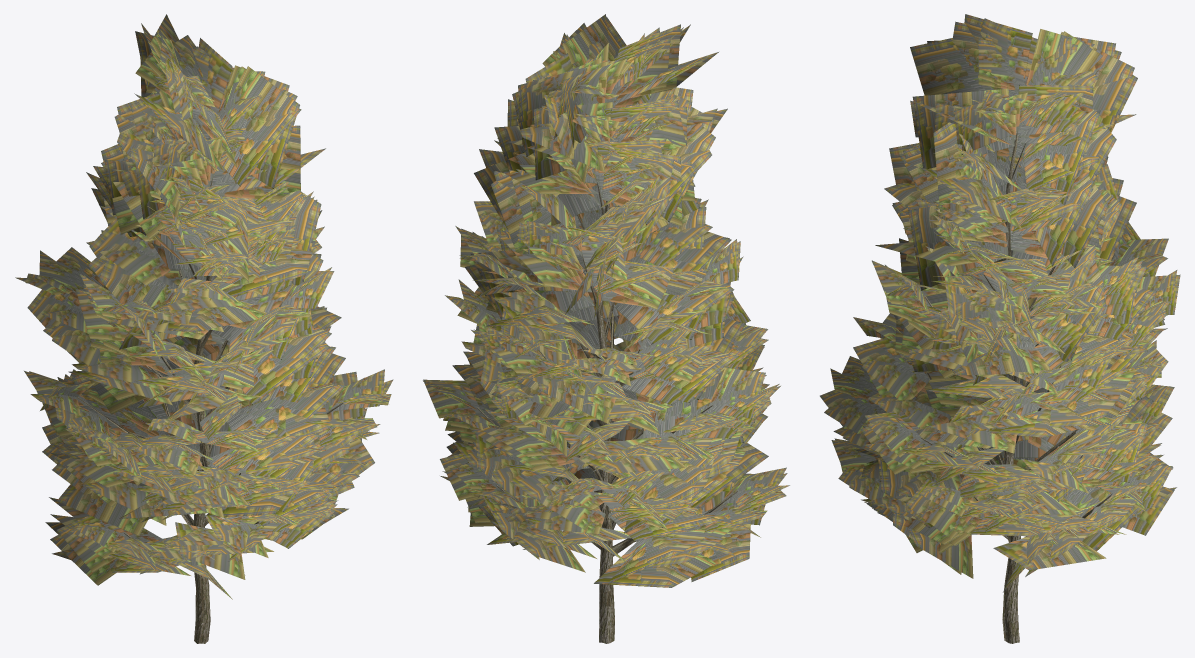
The model's file is Maple_1.fbx.
3 renders of one model, left to right at view 1: azimuth 30°, elevation 25°; view 2: azimuth 150°, elevation 25°; view 3: azimuth 270°, elevation 25°, orthographic. The views are drawn at different scales.
Visible parts, largest first — view 1: Tree_1, Tree_0; view 2: Tree_1, Tree_0; view 3: Tree_1, Tree_0.
Part boxes in pixels (bbox=[...]): Tree_1: bbox=[15, 14, 393, 599]; Tree_0: bbox=[67, 124, 348, 643]; Tree_1: bbox=[423, 14, 789, 587]; Tree_0: bbox=[477, 182, 737, 643]; Tree_1: bbox=[820, 14, 1180, 592]; Tree_0: bbox=[920, 131, 1115, 643].
Bounding box in the file's own units: 144 × 258 × 140.
